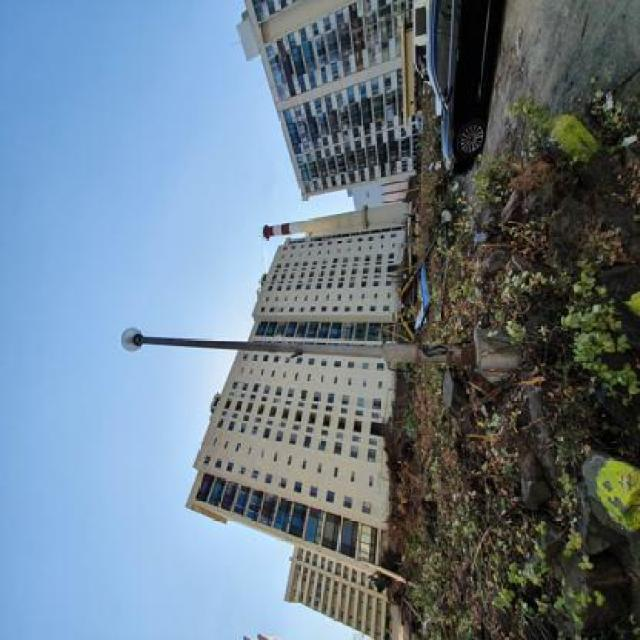pole: (110, 318, 542, 377)
